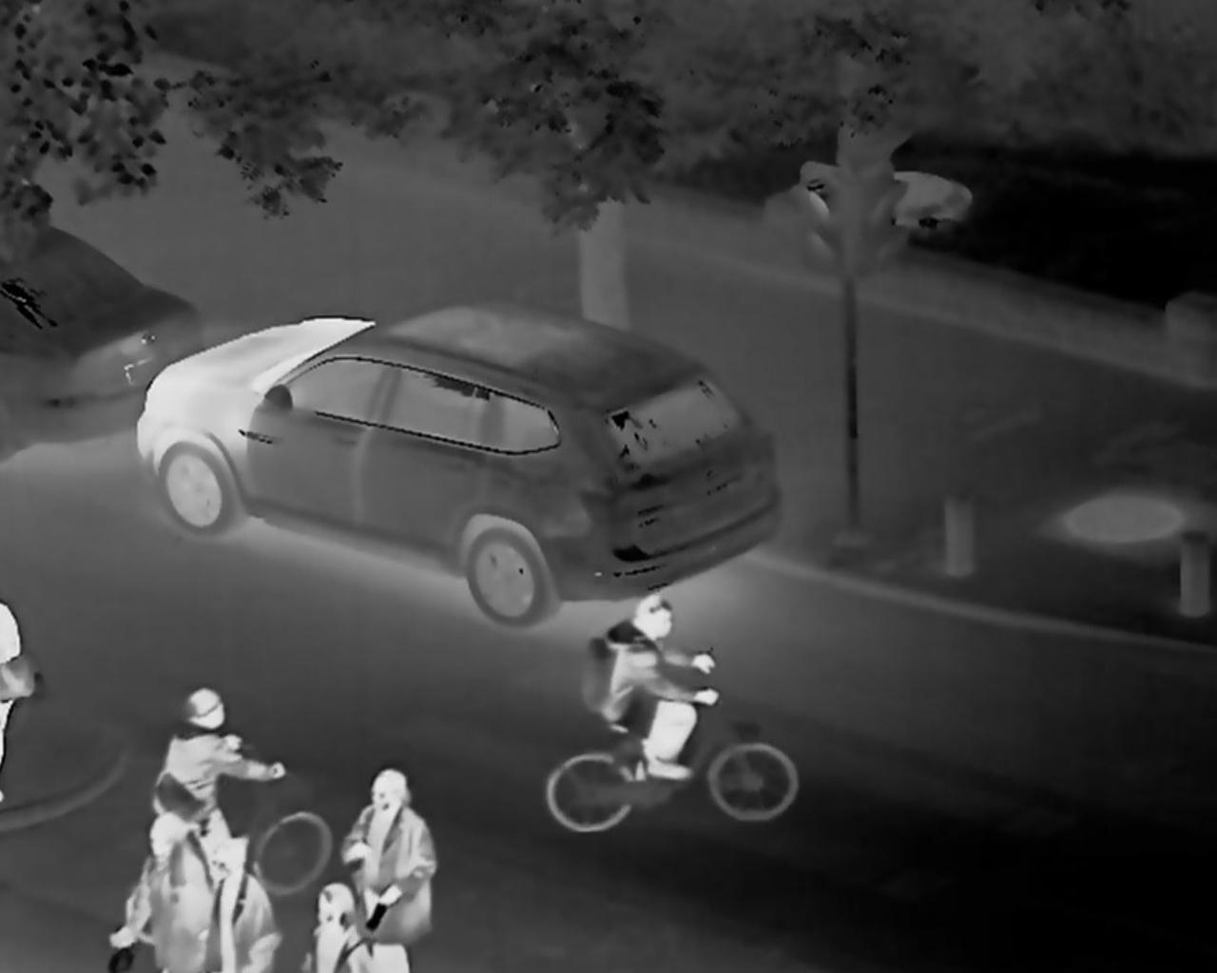person: (610, 587, 731, 754), (321, 753, 437, 896), (132, 810, 214, 973), (167, 681, 261, 784), (301, 875, 371, 973), (213, 843, 263, 964)
